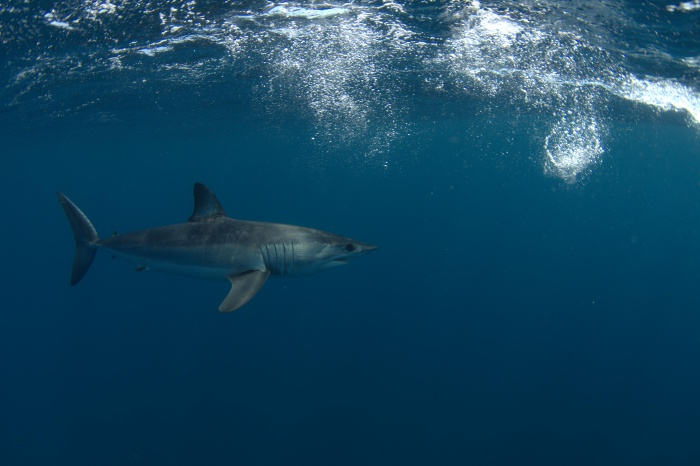Mako: (52, 175, 390, 320)
